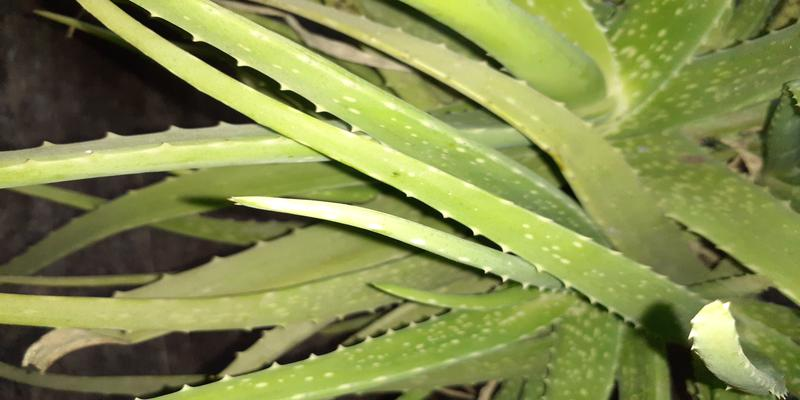Aloevera: (148, 13, 796, 380)
